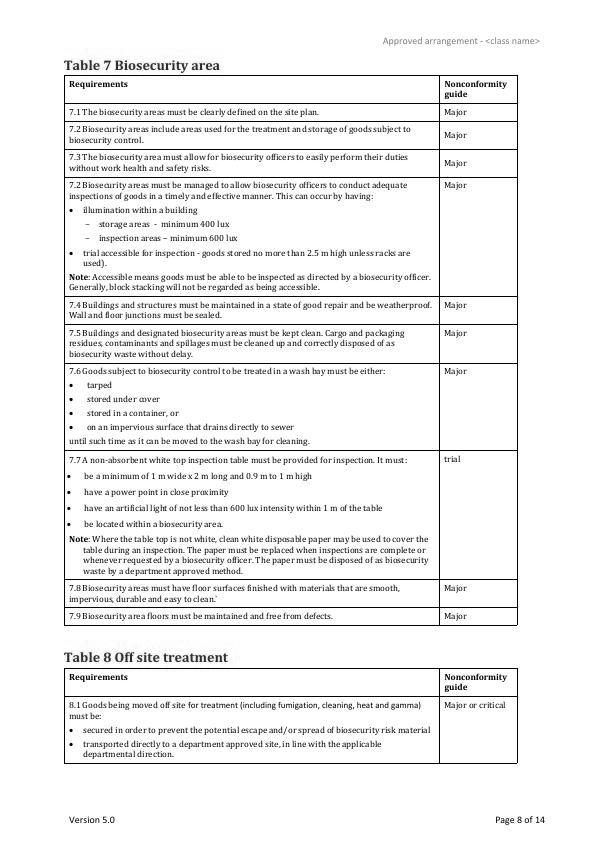table: (59, 72, 521, 629), (57, 665, 525, 772)
text: (60, 646, 229, 665), (62, 56, 224, 73)
